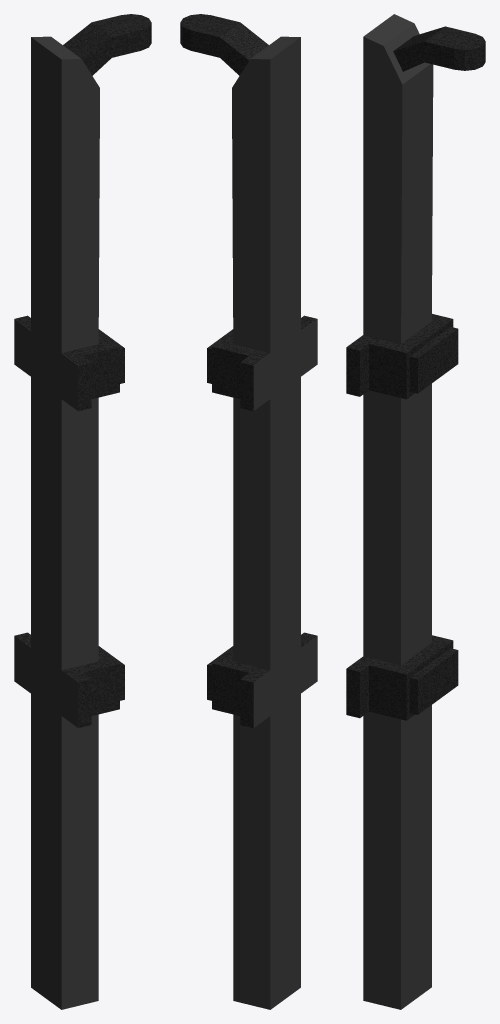
File: blocker_b1_centerPole_MESH.fbx
3 renders of one model, left to right at view 1: azimuth 30°, elevation 25°; view 2: azimuth 150°, elevation 25°; view 3: azimuth 330°, elevation 25°, orthographic.
Parts seen in each view (by area): view 1: blocker_b1_centerPole_MESH; view 2: blocker_b1_centerPole_MESH; view 3: blocker_b1_centerPole_MESH.
Part boxes in pixels (x1,y1,x2,y2): blocker_b1_centerPole_MESH: (14,14,151,1009); blocker_b1_centerPole_MESH: (180,14,317,1009); blocker_b1_centerPole_MESH: (346,14,485,1009).
Size of the model in its own units: 687 by 742 by 6114.
